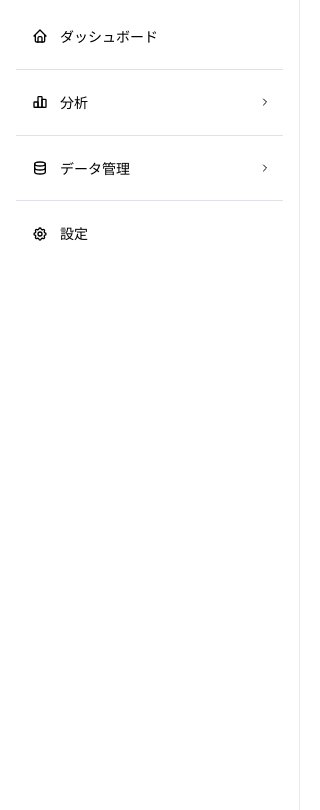
Test case: Navbar Component › expands and collapses menu items with children
The width and height of the screenshot is (320, 810).
Note: Click to expand
Click the text "分析" at (74, 102), box [60, 94, 88, 111]
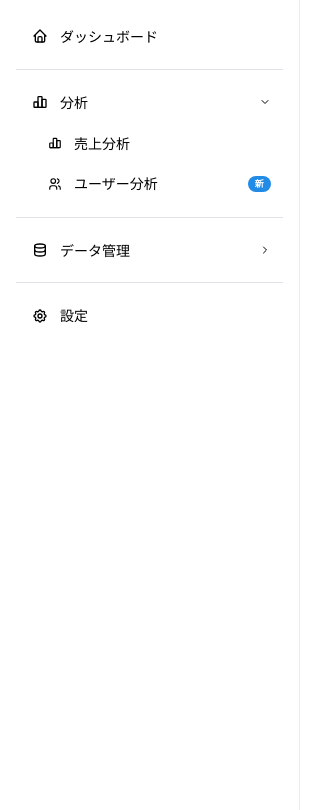
Check: the text "売上分析" is shown, box [74, 135, 130, 152]
Check: the text "ユーザー分析" is shown, box [74, 175, 158, 192]
